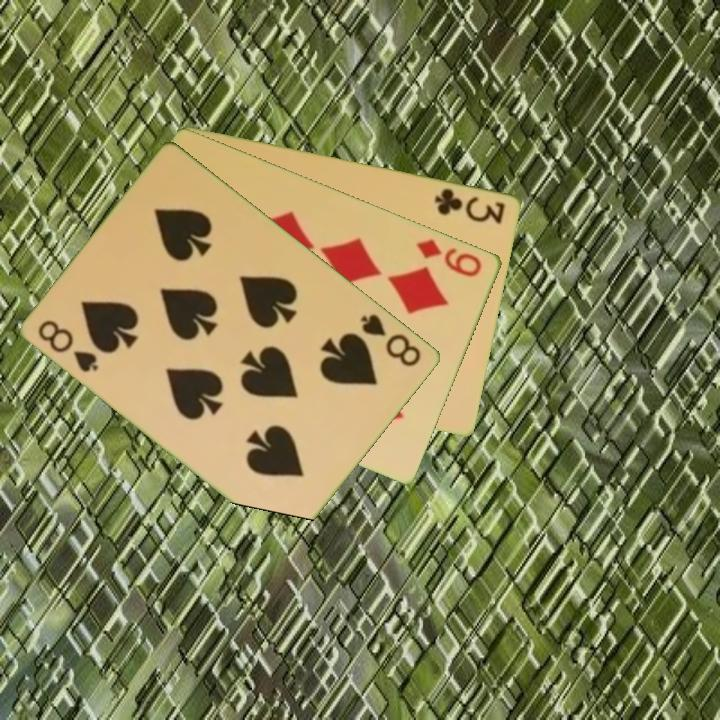3c: (431, 184, 508, 227)
8s: (357, 310, 425, 370), (35, 316, 103, 376)
9d: (413, 235, 486, 280)
